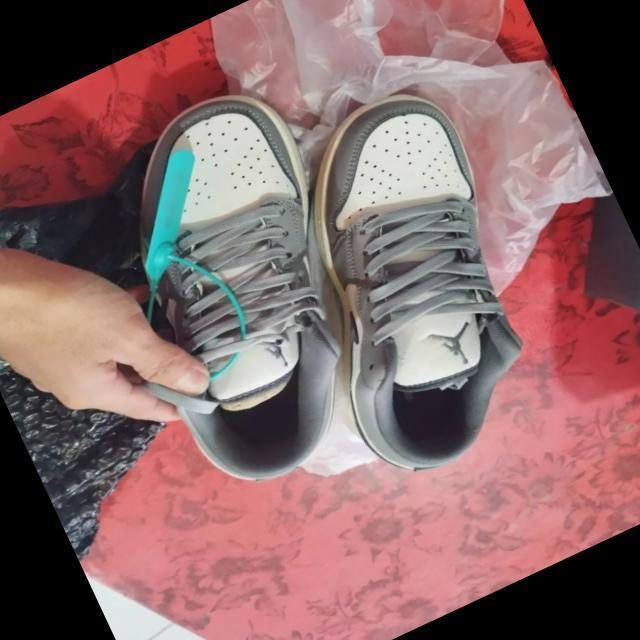nike fake jordan 1: (63, 70, 428, 502), (232, 70, 586, 492)
